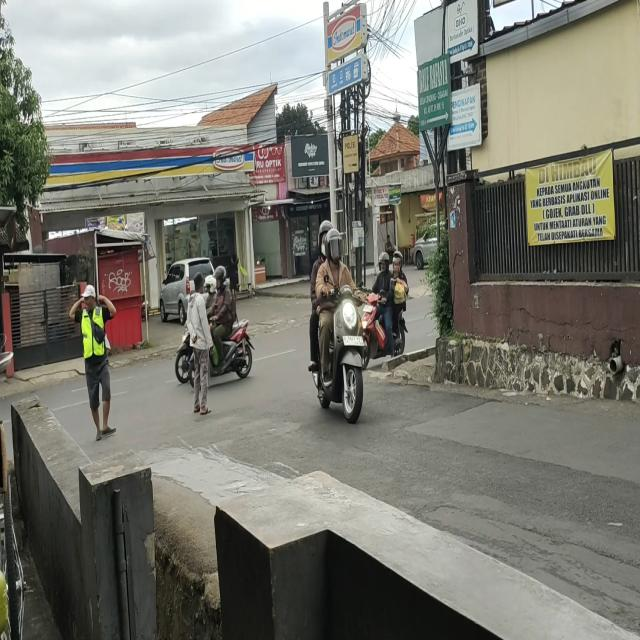helmet: (325, 230, 344, 262), (319, 221, 335, 255), (378, 251, 389, 273), (392, 252, 403, 272), (215, 269, 226, 286), (206, 278, 216, 295)
